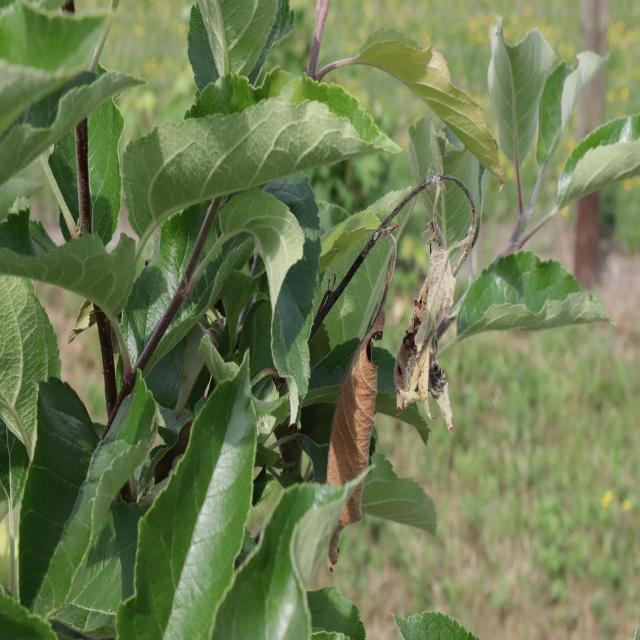-FireBlight-: (324, 215, 386, 525), (408, 191, 449, 442)
